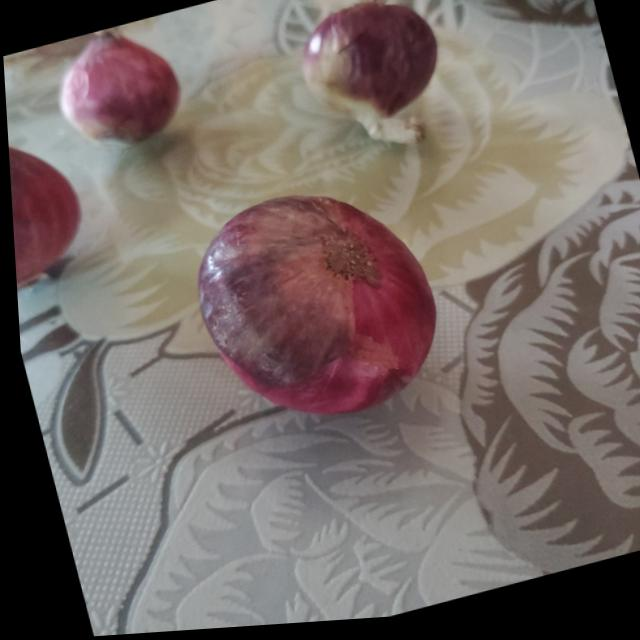onion: (172, 169, 449, 442), (289, 0, 451, 133), (43, 17, 190, 162), (5, 95, 91, 287)
